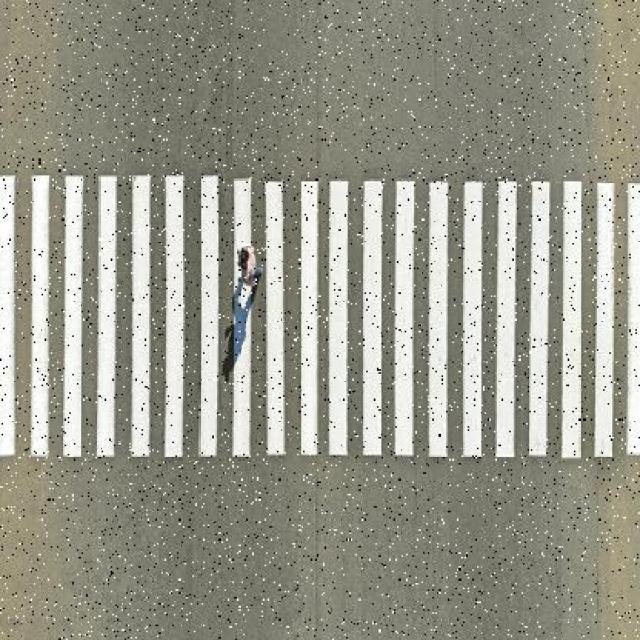intact_crosswalk: (1, 180, 640, 458)
